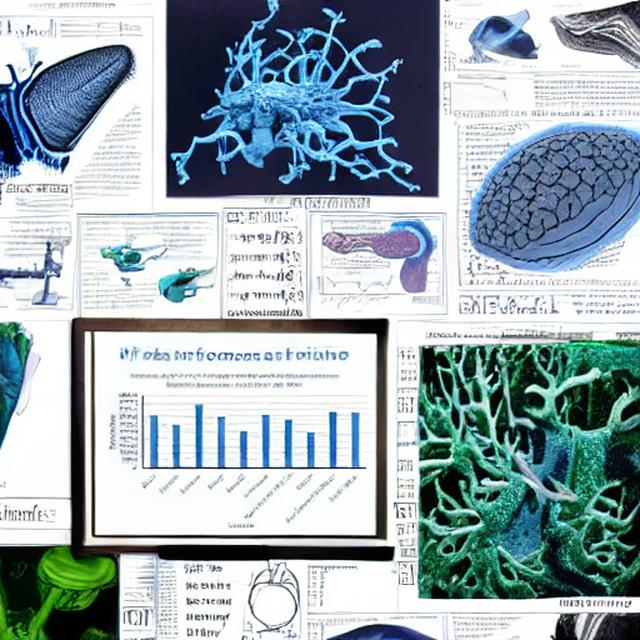Graph: (98, 368, 371, 532), (312, 264, 398, 314), (440, 76, 512, 120), (0, 14, 54, 47)
